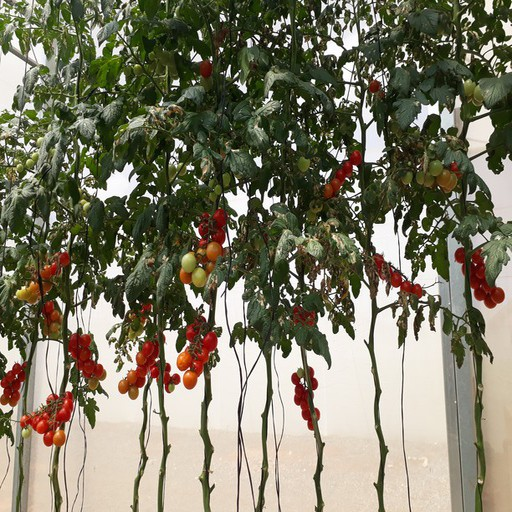green tomato bunch: (13, 137, 46, 171), (146, 45, 179, 79), (457, 76, 487, 106), (199, 174, 232, 201), (163, 156, 187, 179), (114, 63, 143, 77)
mixed tomato bunch: (178, 208, 225, 289), (17, 252, 71, 303), (398, 158, 466, 192), (127, 301, 154, 340), (198, 61, 220, 92)
red tomato bunch: (117, 331, 166, 401), (20, 389, 74, 447), (456, 248, 506, 308), (176, 316, 217, 389), (374, 252, 424, 296), (68, 333, 103, 390), (292, 366, 321, 431), (324, 148, 361, 196), (1, 358, 28, 407), (41, 301, 63, 339), (291, 303, 320, 330)
